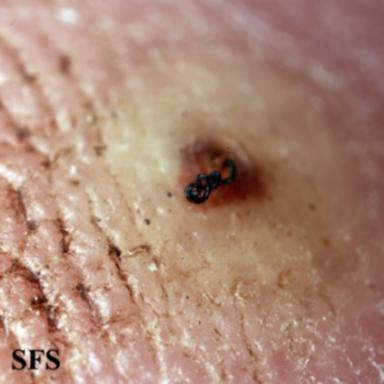Tungiasis: (99, 64, 359, 290)
